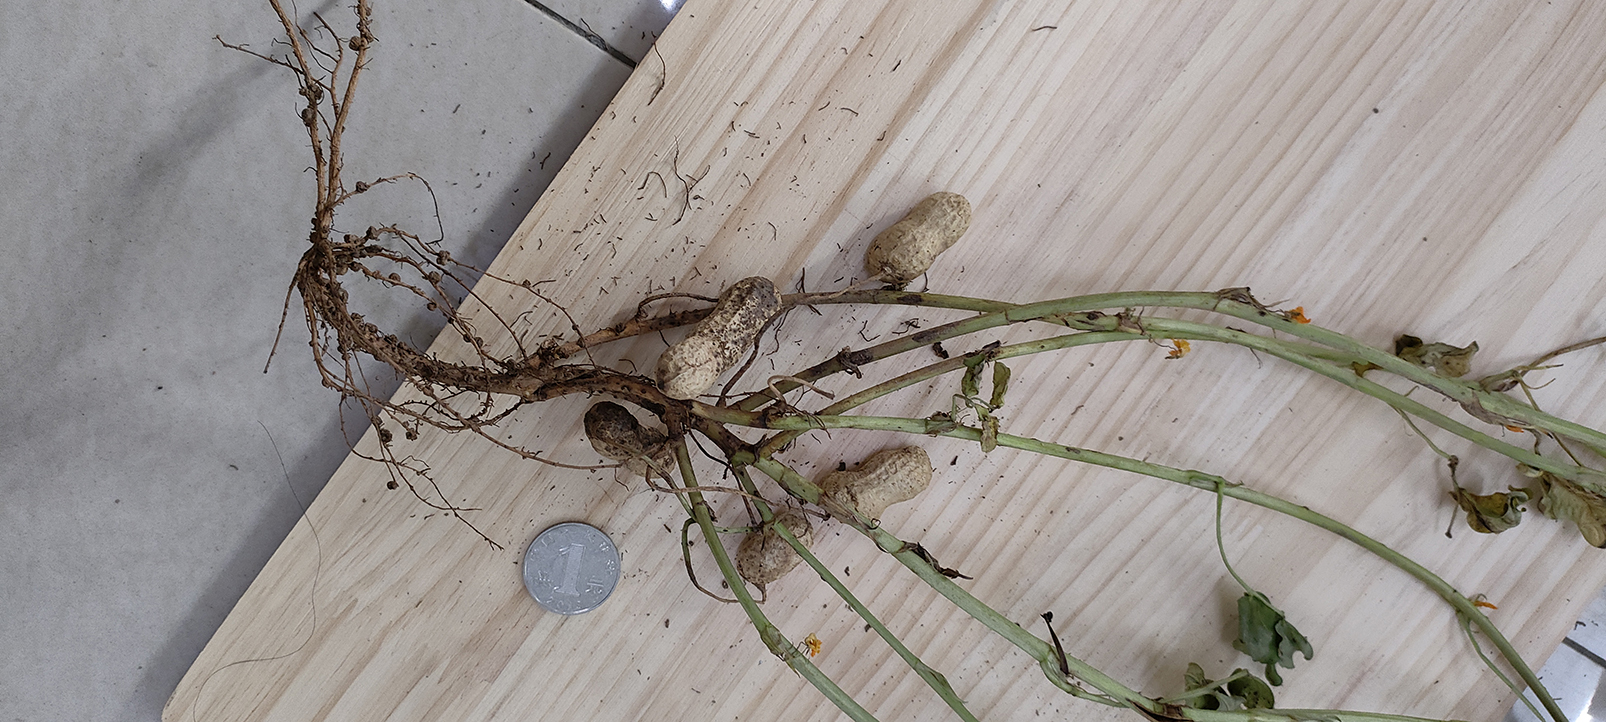h: (656, 277, 781, 399), (864, 192, 971, 287), (820, 445, 934, 522)
l: (584, 401, 676, 477), (735, 512, 814, 585)
